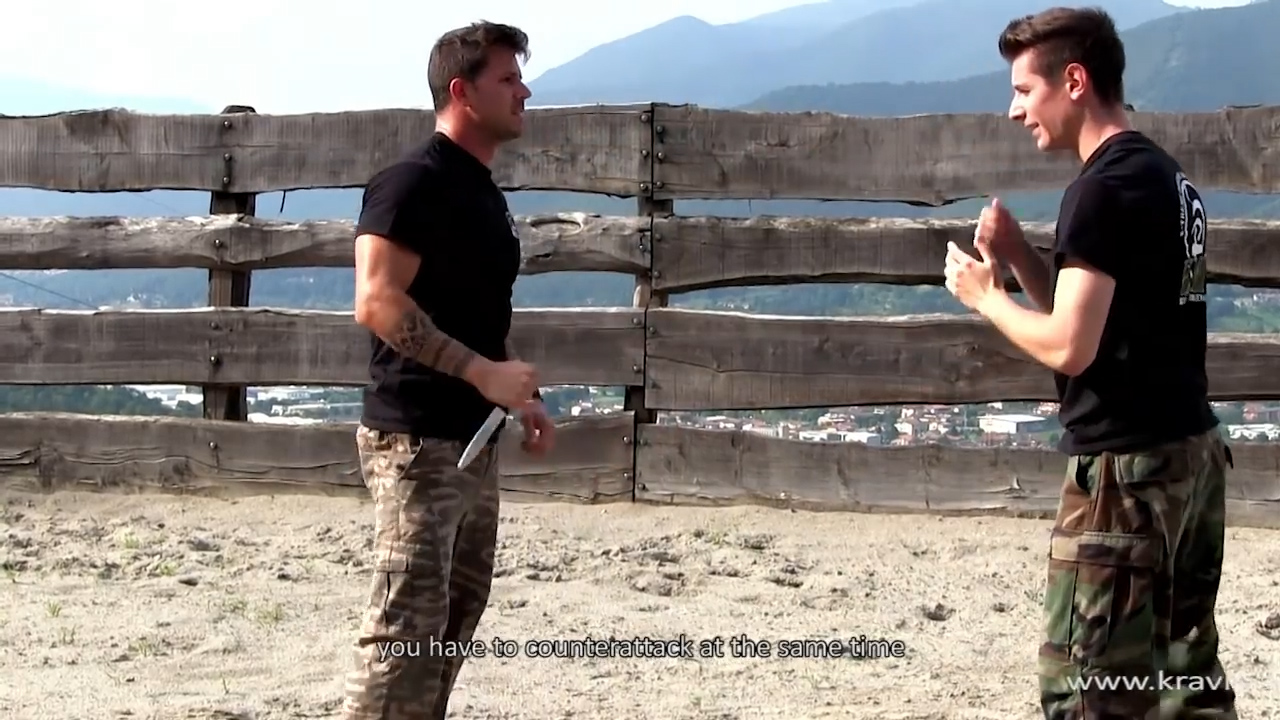knife: (449, 362, 542, 479)
